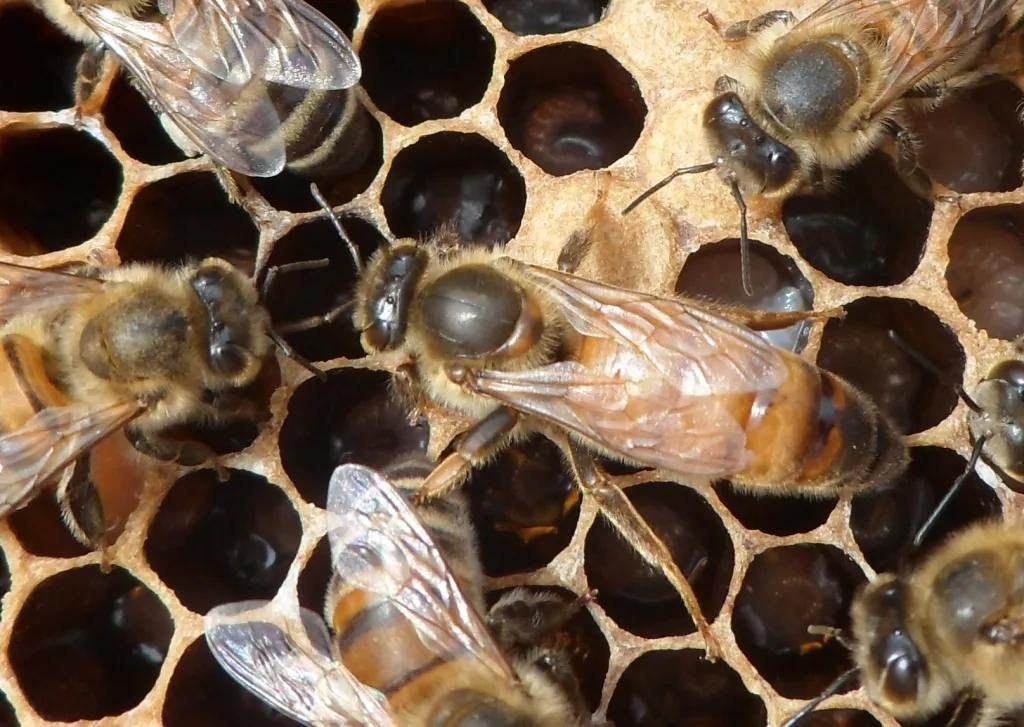Queen-Bee: (353, 232, 907, 495)
worker-bee: (205, 459, 581, 726), (0, 257, 320, 546), (703, 0, 1016, 206), (40, 0, 364, 176)
